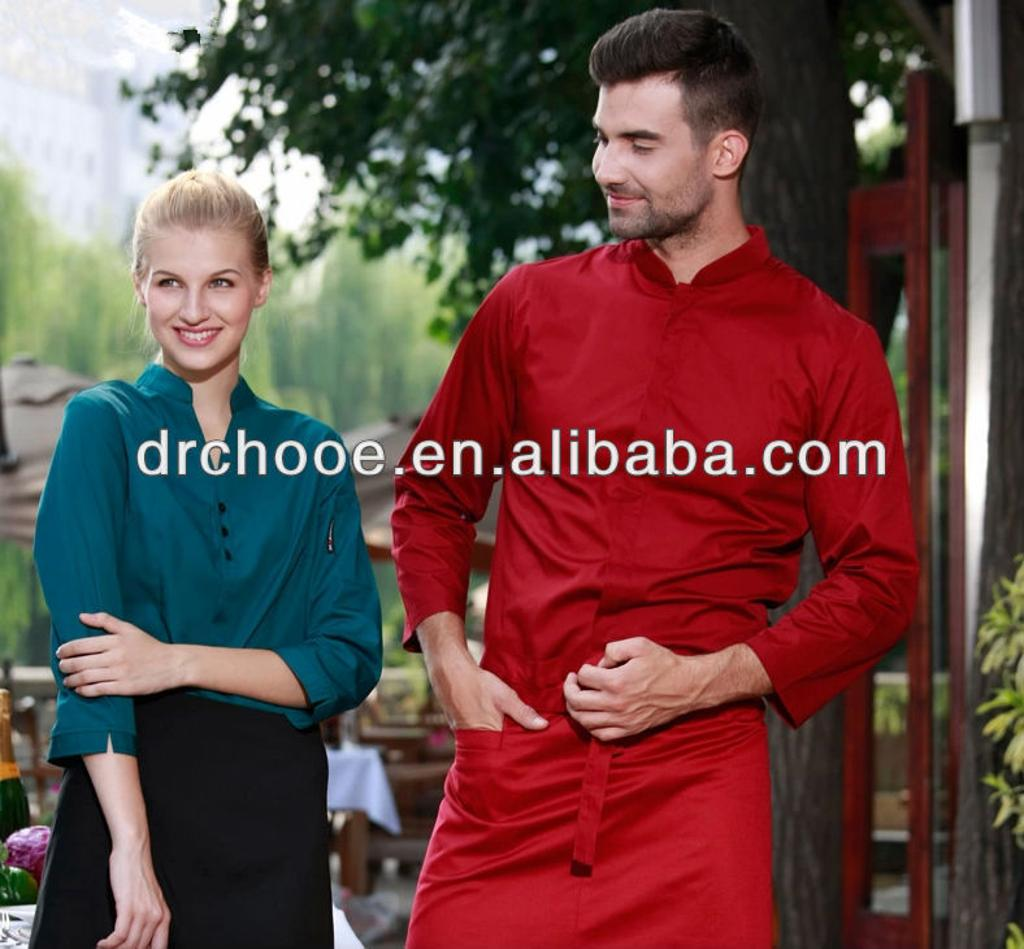face: (588, 74, 706, 236), (146, 218, 258, 366)
